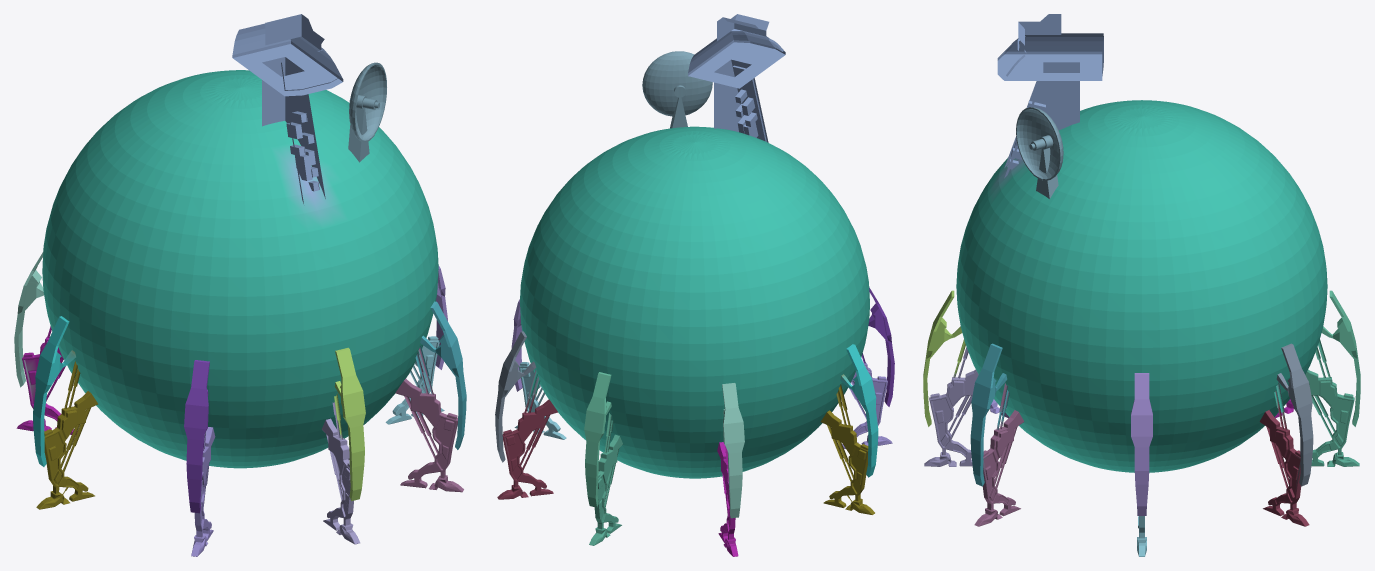
3 renders of one model, left to right at view 1: azimuth 30°, elevation 25°; view 2: azimuth 150°, elevation 25°; view 3: azimuth 270°, elevation 25°, orthographic. The views are drawn at different scales.
Visible parts, largest first — view 1: world; view 2: world; view 3: world.
Part boxes in pixels (x1,y1,x2,y2): world: [14, 14, 466, 556]; world: [495, 14, 894, 556]; world: [923, 14, 1360, 556].
Bounding box in the file's own units: 0.9025 × 1 × 0.8964.
